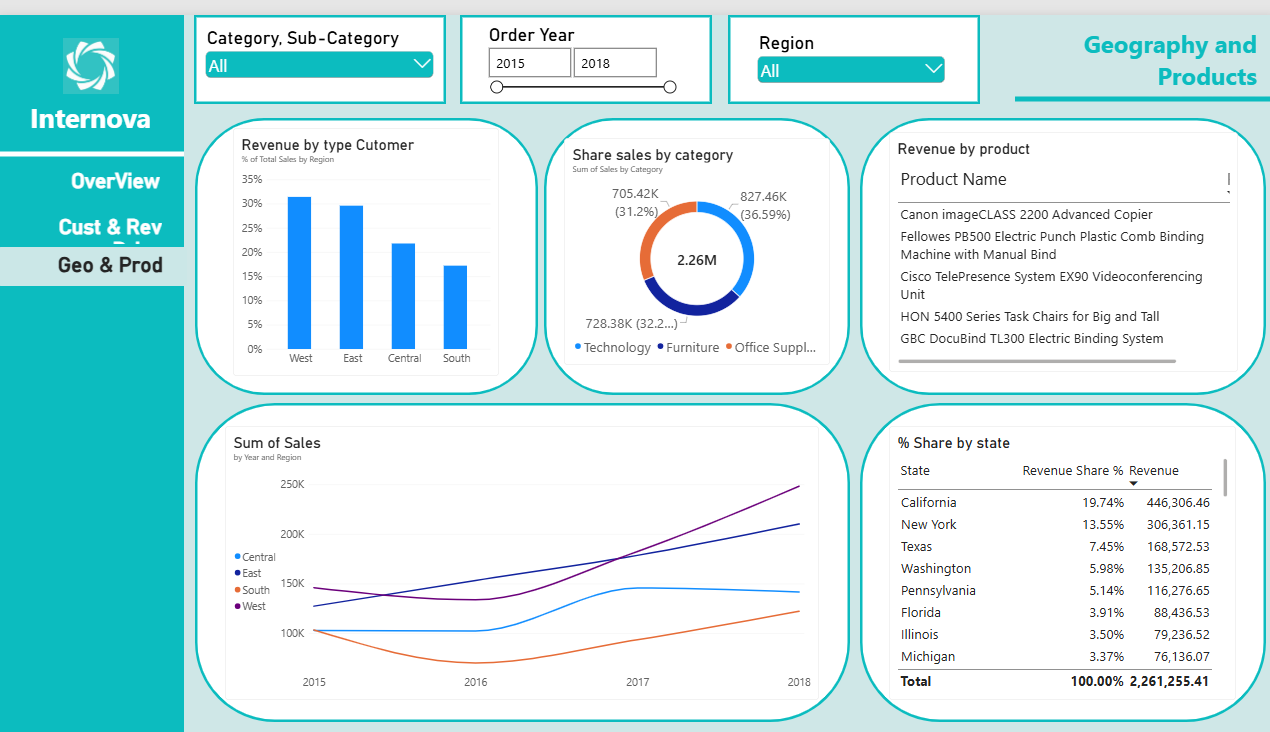

The page's visual inventory and layout, read from the dashboard file:
{"tool":"powerbi","page":{"name":"Geography and Products","canvas":[2560,1440],"ordinal":2},"visuals":[{"type":"shape","box":[0,0,374,1440],"z":0},{"type":"textbox","box":[0,168,374,112],"z":1000},{"type":"shape","box":[0,240,374,76],"z":2000},{"type":"shape","box":[394,0,504,178],"z":3000},{"type":"slicer","fields":{"Values":["superstore_clean.Category","superstore_clean.Sub-Category"]},"box":[412,24,466,132],"z":4000},{"type":"image","box":[124,46,128.3,111.7],"z":5000},{"type":"shape","box":[0,464,380,78],"z":6000},{"type":"actionButton","title":"OverView","box":[18,306,308,60],"z":7000},{"type":"actionButton","title":"Cust & Rev Drivs","box":[16,398,314,60],"z":8000},{"type":"actionButton","title":"Geo & Prod","box":[14,474,318,60],"z":9000},{"type":"shape","box":[926,0,504,178],"z":10000},{"type":"shape","box":[1462,0,504,178],"z":11000},{"type":"slicer","title":"Year","fields":{"Values":["superstore_clean.Order Year"]},"box":[976,18,386,232],"z":12000},{"type":"slicer","fields":{"Values":["superstore_clean.Region"]},"box":[1516,34,385,111.7],"z":13000},{"type":"textbox","box":[2110,24,410,132],"z":14000},{"type":"shape","box":[2036,130,524,76],"z":15000},{"type":"shape","box":[1094,206,612,554],"z":16000},{"type":"shape","box":[396,206,686,554],"z":17000},{"type":"columnChart","title":"Revenue by type Cutomer","fields":{"Category":["superstore_clean.Region"],"Y":["superstore_clean.% of Total Sales"]},"box":[472,226,532,496],"z":18000},{"type":"donutChart","title":"Share sales by category","fields":{"Category":["superstore_clean.Category"],"Y":["Sum(superstore_clean.Sales)"]},"box":[1134,246,532,454],"z":19000},{"type":"shape","box":[396,776,1310,638],"z":20000},{"type":"lineChart","fields":{"Category":["superstore_clean.Order Date.Variation.Date Hierarchy.Year"],"Series":["superstore_clean.Region"],"Y":["Sum(superstore_clean.Sales)"]},"box":[456,822,1188,548],"z":21000},{"type":"shape","box":[1726,206,812,554],"z":22000},{"type":"shape","box":[1726,776,812,638],"z":23000},{"type":"tableEx","title":"% Share by state","fields":{"Values":["superstore_clean.State","superstore_clean.Revenue Share %","Sum(superstore_clean.Sales)"]},"box":[1784,822,694,548],"z":24000},{"type":"tableEx","title":"Revenue by product","fields":{"Values":["superstore_clean.Product Name","Sum(superstore_clean.Sales)"]},"box":[1784,234,698,480],"z":25000}]}

Visuals, with their boxes in screenshot pixels (x1, y1, x2, y2), scaled from the page's 2560x1440 canvas onto the 1270x732 screenshot:
shape: l=0, t=0, r=186, b=731
textbox: l=0, t=85, r=186, b=142
shape: l=0, t=122, r=186, b=161
shape: l=195, t=0, r=445, b=90
slicer - superstore_clean.Category x superstore_clean.Sub-Category: l=204, t=12, r=436, b=79
image: l=62, t=23, r=125, b=80
shape: l=0, t=236, r=189, b=276
"OverView" actionButton: l=9, t=156, r=162, b=186
"Cust & Rev Drivs" actionButton: l=8, t=202, r=164, b=233
"Geo & Prod" actionButton: l=7, t=241, r=165, b=271
shape: l=459, t=0, r=709, b=90
shape: l=725, t=0, r=975, b=90
"Year" slicer: l=484, t=9, r=676, b=127
slicer - superstore_clean.Region: l=752, t=17, r=943, b=74
textbox: l=1047, t=12, r=1250, b=79
shape: l=1010, t=66, r=1269, b=105
shape: l=543, t=105, r=846, b=386
shape: l=196, t=105, r=537, b=386
"Revenue by type Cutomer" columnChart: l=234, t=115, r=498, b=367
"Share sales by category" donutChart: l=563, t=125, r=826, b=356
shape: l=196, t=394, r=846, b=719
lineChart - superstore_clean.Order Date.Variation.Date Hierarchy.Year x superstore_clean.Region: l=226, t=418, r=816, b=696
shape: l=856, t=105, r=1259, b=386
shape: l=856, t=394, r=1259, b=719
"% Share by state" tableEx: l=885, t=418, r=1229, b=696
"Revenue by product" tableEx: l=885, t=119, r=1231, b=363
